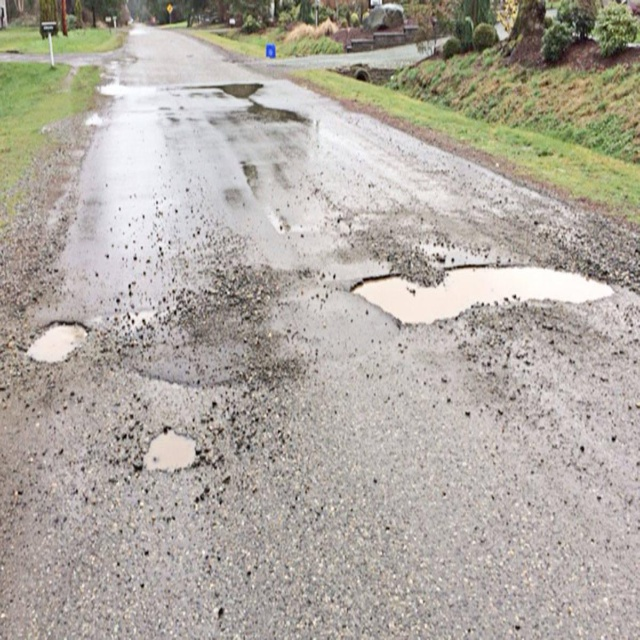pothole: (350, 266, 630, 324), (25, 323, 87, 363), (142, 432, 200, 472), (226, 100, 309, 124)
